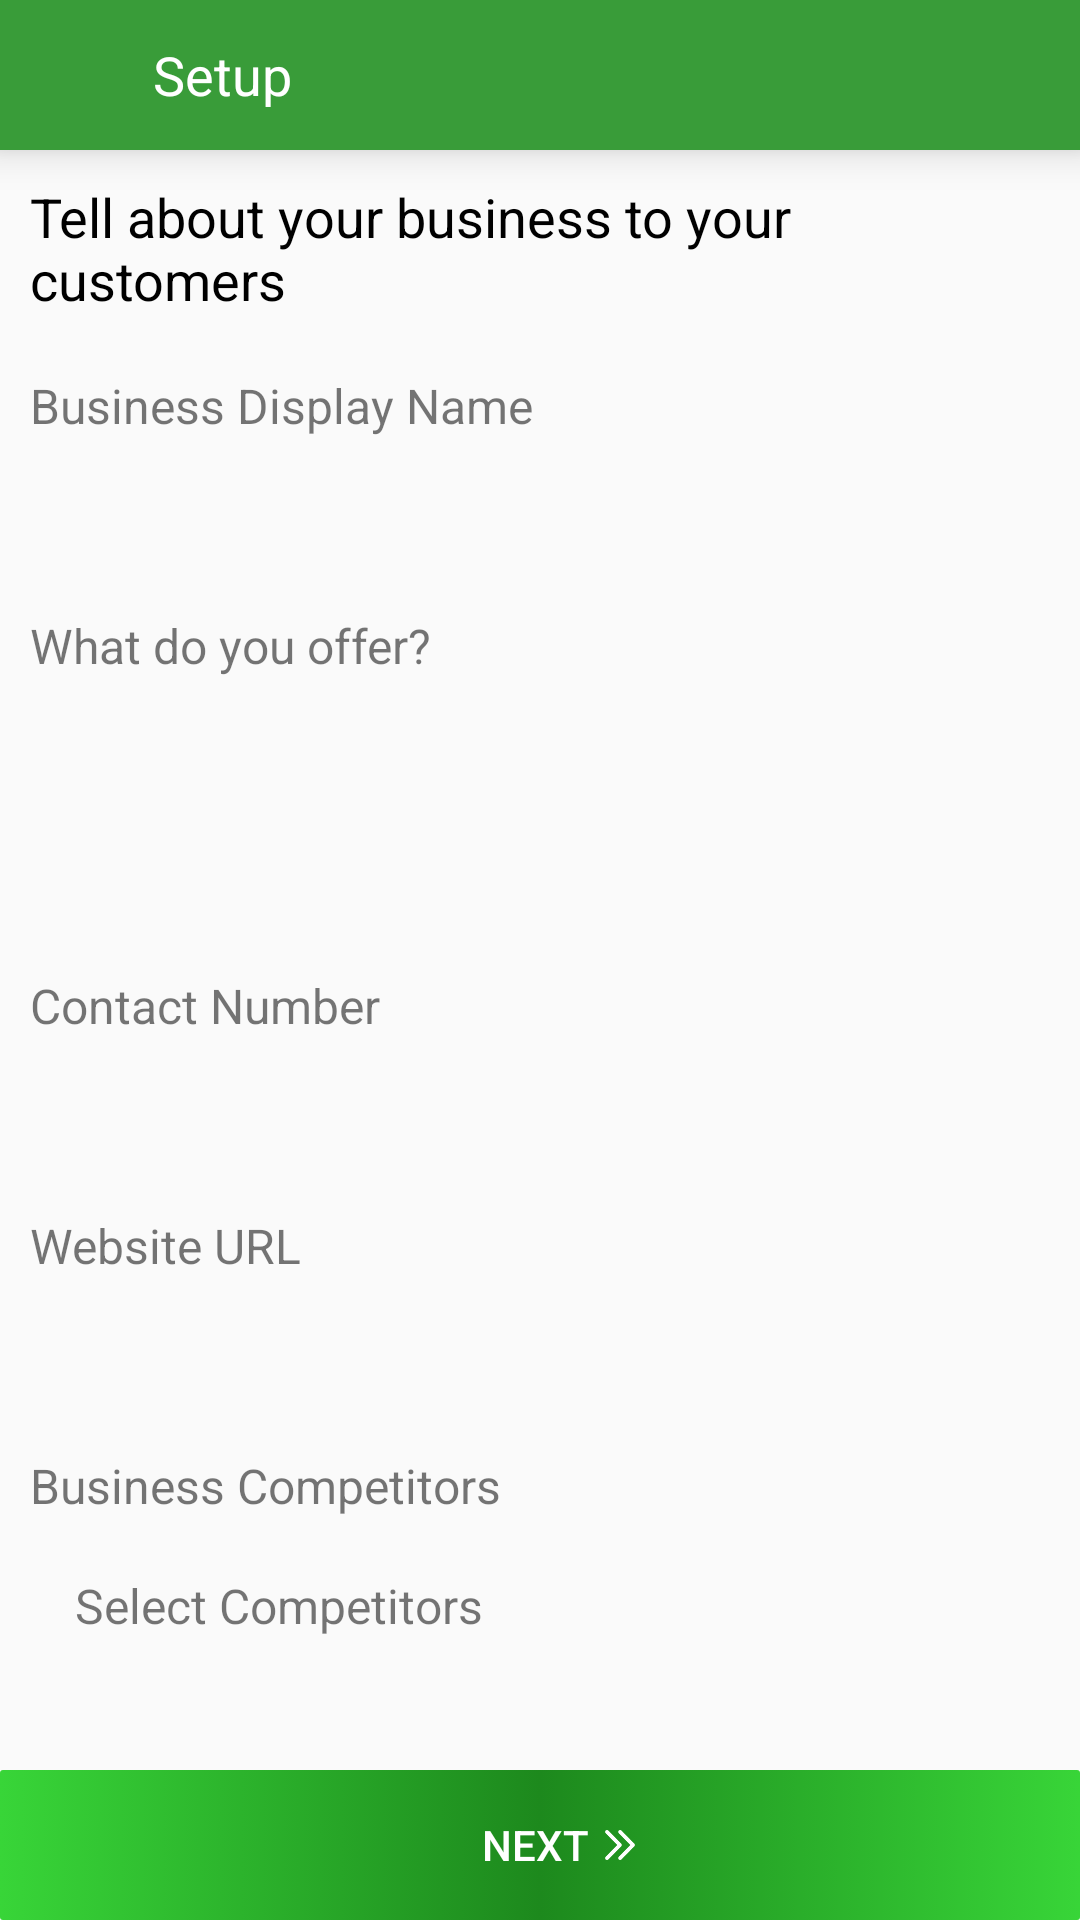

Point at icon controls on the screen. Image size 1080x1920, points as (x=x, y=y).
arrow: (x=620, y=1845)
